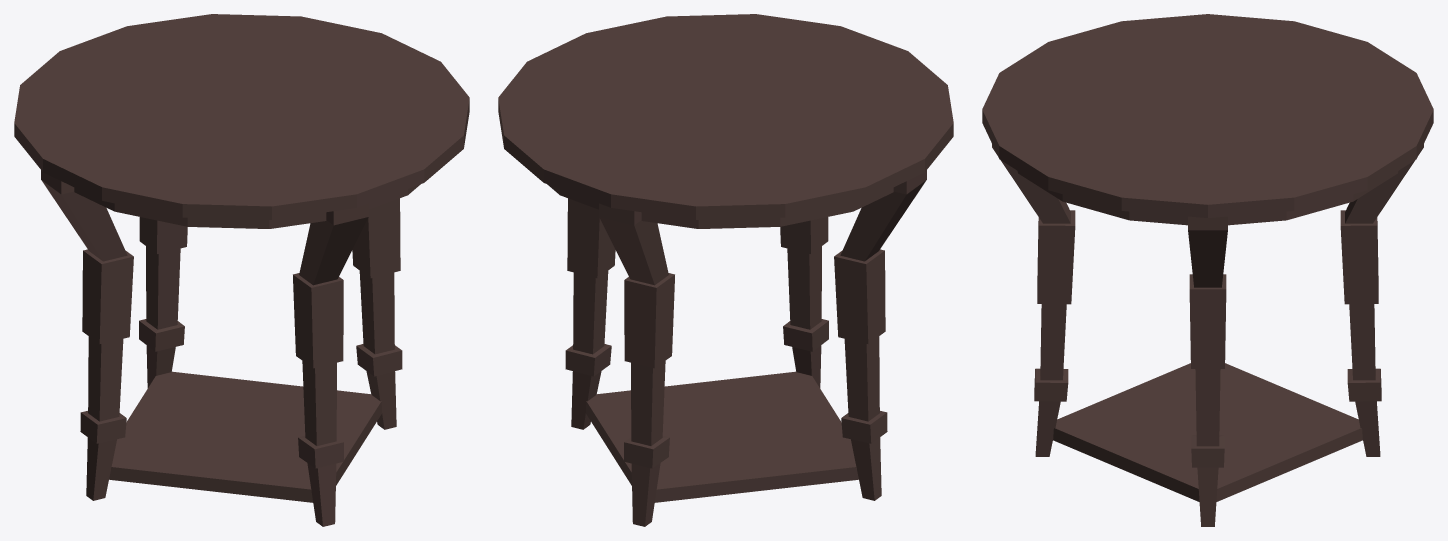
Rendered from EndTable.fbx.
The picture shows the model from 3 angles, left to right: view 1: azimuth 30°, elevation 25°; view 2: azimuth 150°, elevation 25°; view 3: azimuth 270°, elevation 25°; orthographic projection.
Parts seen in each view (by area): view 1: EndTable; view 2: EndTable; view 3: EndTable.
Boxes of the visible parts, left/top/right/bottom form: EndTable: left=14, top=14, right=469, bottom=526; EndTable: left=498, top=14, right=953, bottom=526; EndTable: left=982, top=14, right=1433, bottom=526.
Size of the model in its own units: 90.09 by 75.95 by 90.09.
